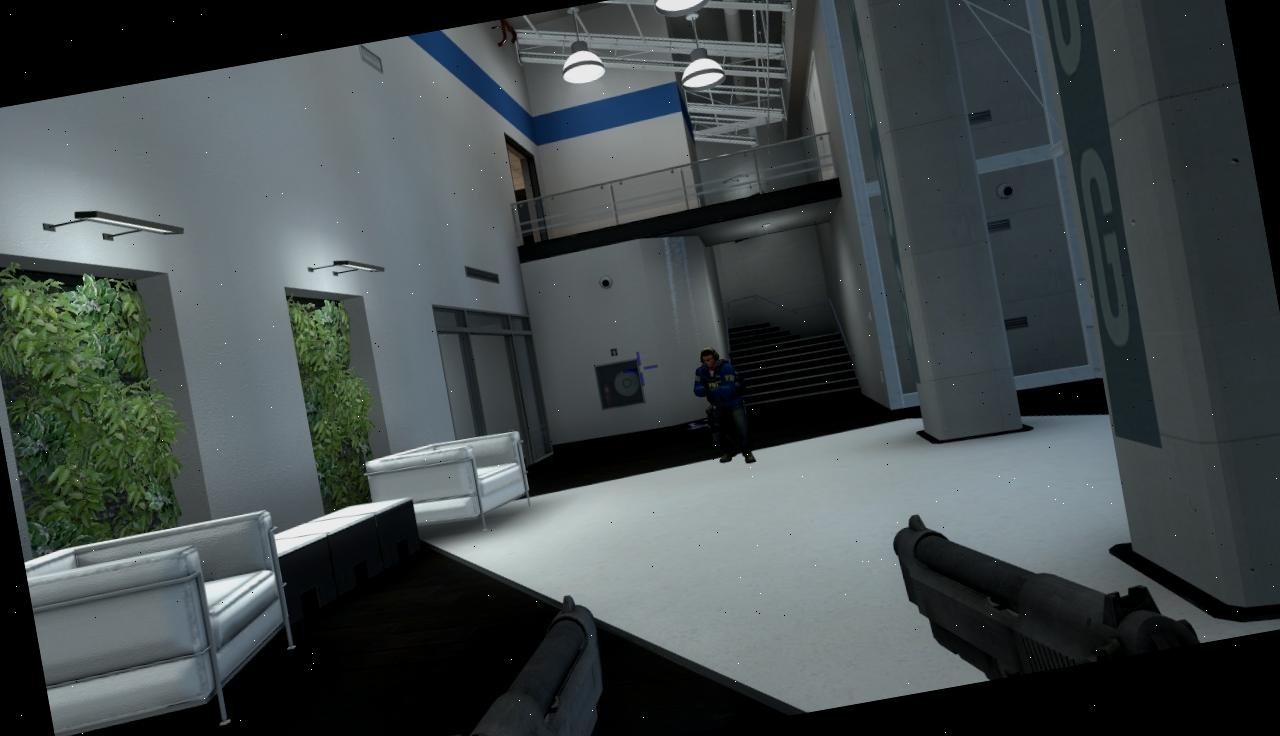ct: (691, 342, 758, 471)
cthead: (700, 346, 719, 368)
pistol: (868, 458, 1200, 696)
